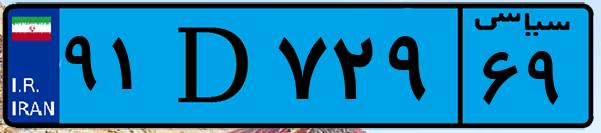1: (110, 28, 158, 98)
2: (330, 28, 385, 110)
6: (475, 38, 525, 113)
7: (270, 28, 330, 110)
9: (385, 28, 445, 110), (57, 26, 110, 100), (525, 38, 570, 115)
D: (158, 12, 270, 120)
